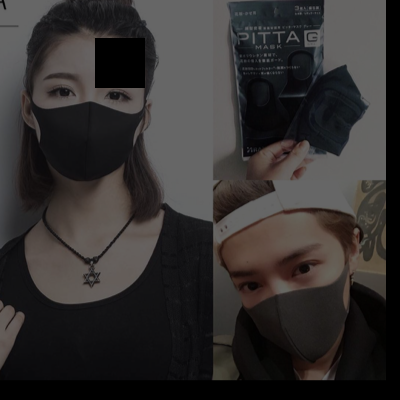with_mask: (226, 241, 350, 370), (29, 68, 146, 186)
